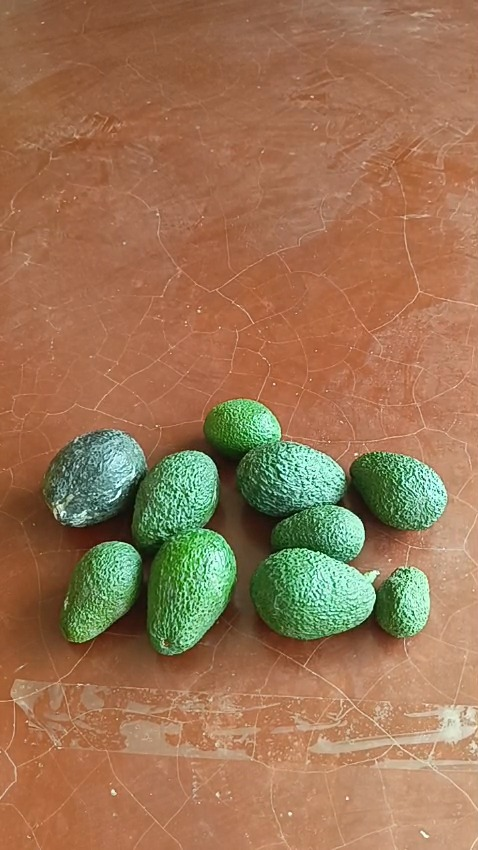Primera: (147, 526, 239, 655), (250, 550, 376, 639), (41, 430, 146, 528), (129, 451, 218, 553), (237, 440, 348, 518), (349, 452, 447, 532)
Segunda: (58, 541, 143, 644), (271, 507, 365, 563), (205, 398, 282, 457)
Tercera: (374, 565, 432, 638)
